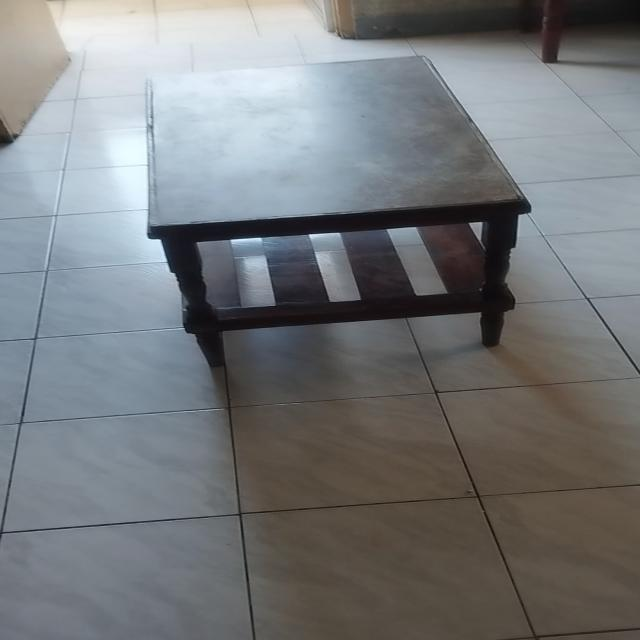table: (135, 48, 530, 362)
